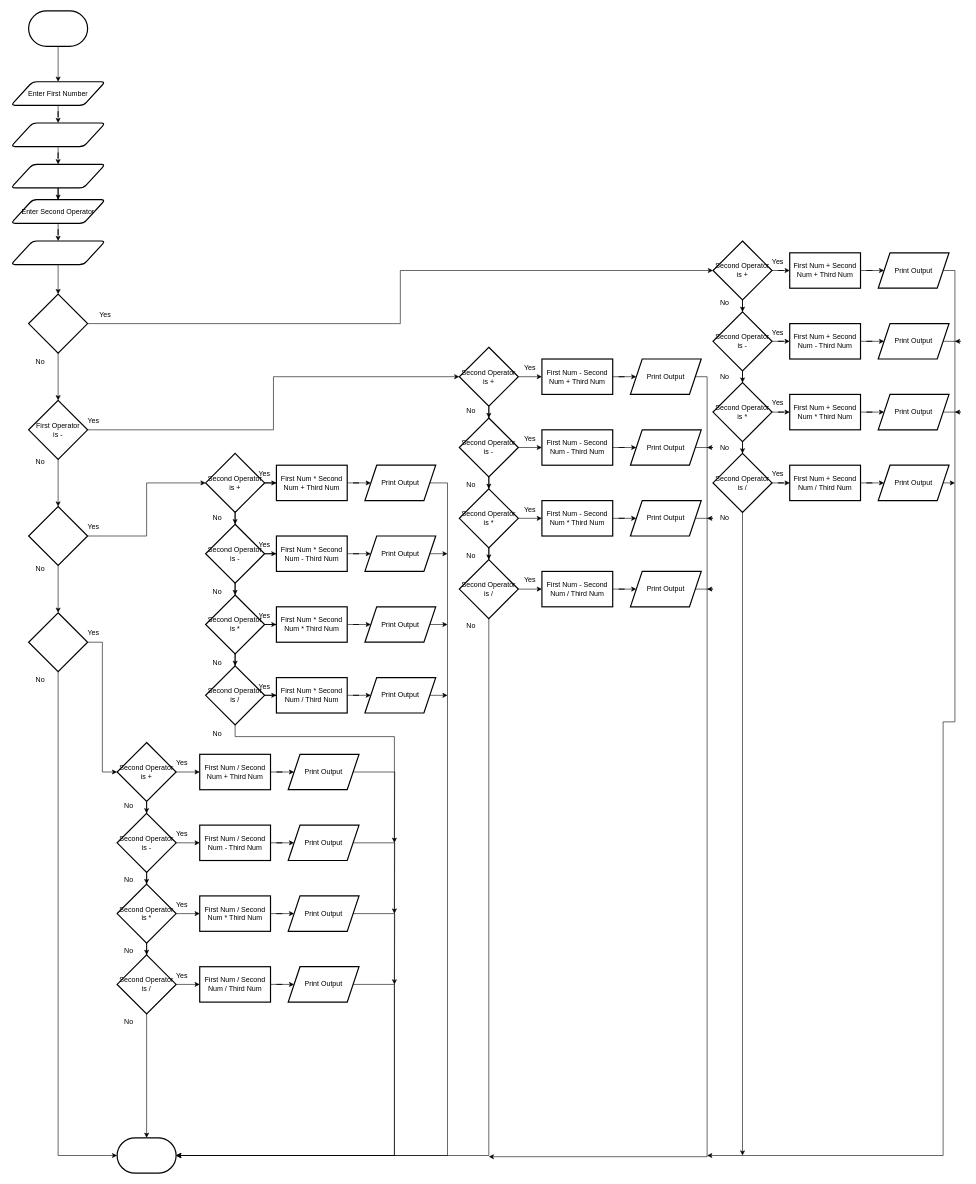
The diagram is 976 pixels wide and 1184 high, and some of its shapes have lost their labels. Here are the shapes that lost their labels. From the top down, the centre of each, then its label:
point 58,28: Start
point 58,134: Enter First Operator
point 58,175: Enter Second Number
point 58,252: Enter Third Number
point 58,323: First Operator is +
point 58,536: First Operator is *
point 58,642: First Operator is /
point 146,1155: End
